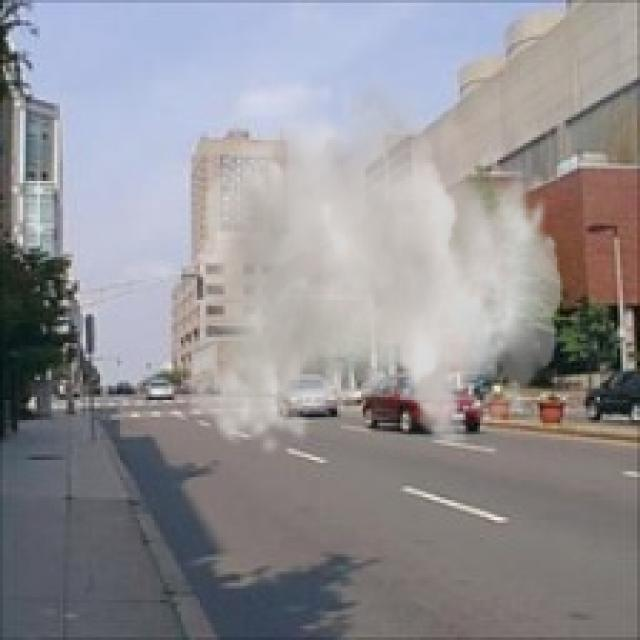smoke: (183, 60, 563, 457)
